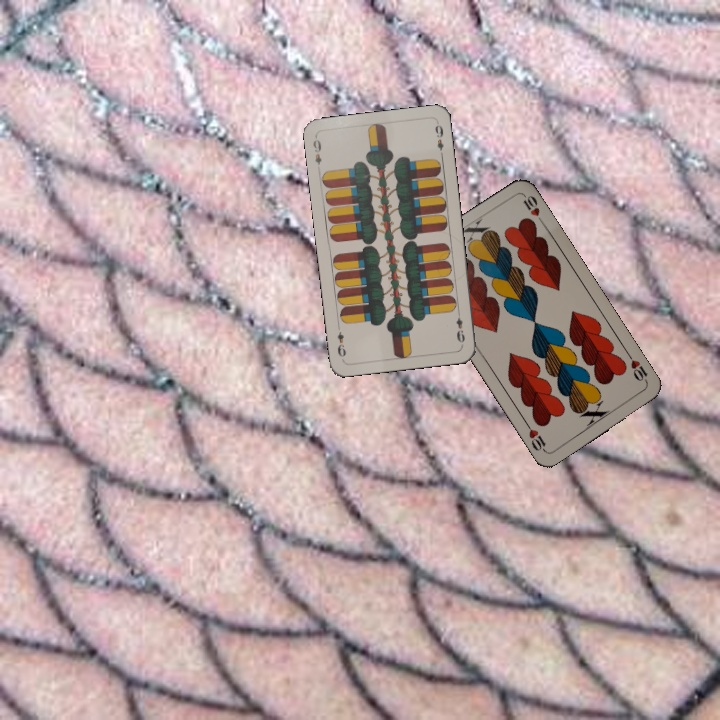E9: (452, 307, 468, 347), (309, 133, 324, 174)
H10: (623, 350, 651, 386)
